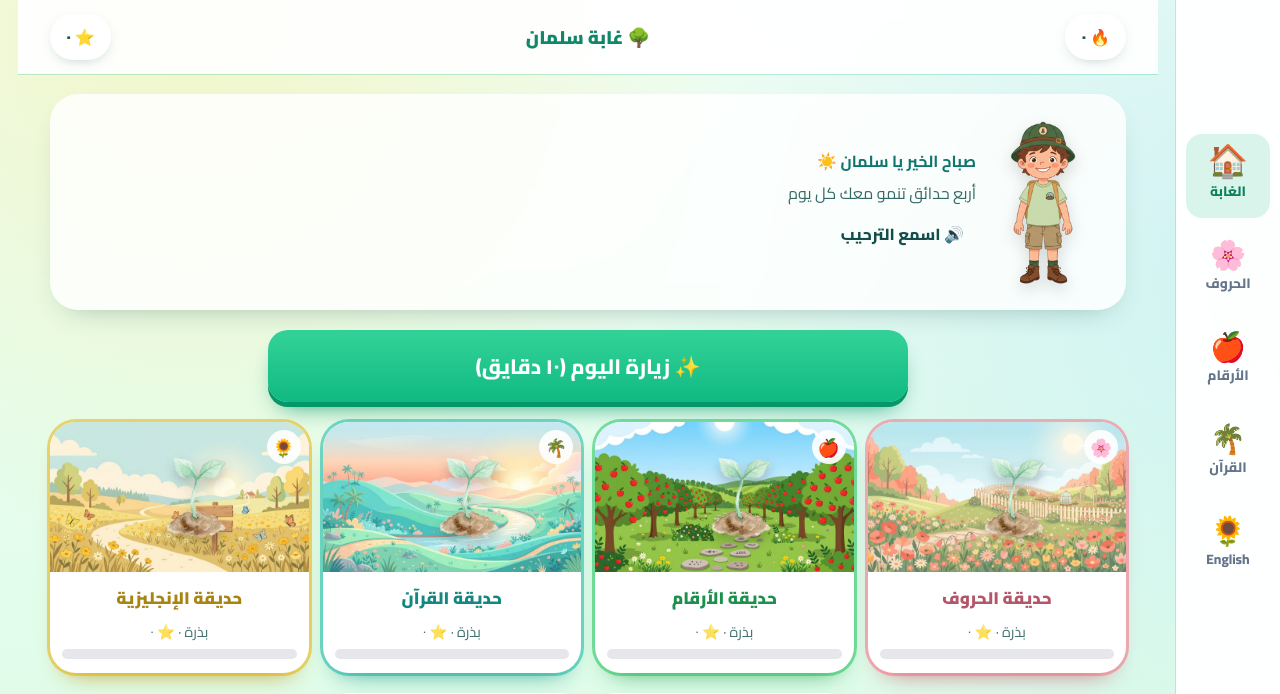
Test: حديقة سلمان — الواجهة › زيارة اليوم تبدأ بقصة العربية، وفيها سؤال من خيارين فقط
Click the button "✨ زيارة اليوم (١٠ دقايق)" at (588, 366), box [268, 330, 908, 402]
(page scrolled)
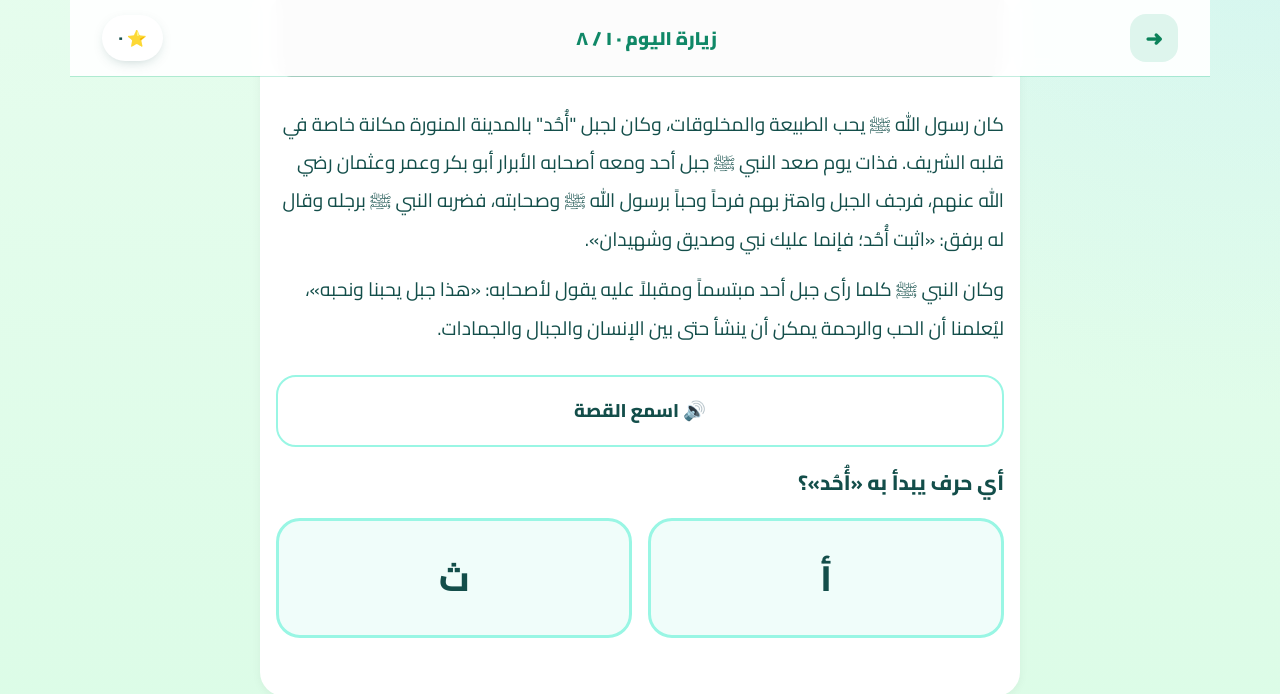
expect the heading "زيارة اليوم · ١ / ٨" is shown: met, box [576, 20, 717, 56]
expect the button "أ" is shown: met, box [648, 518, 1004, 638]
expect the button "ث" is shown: met, box [276, 518, 632, 638]
